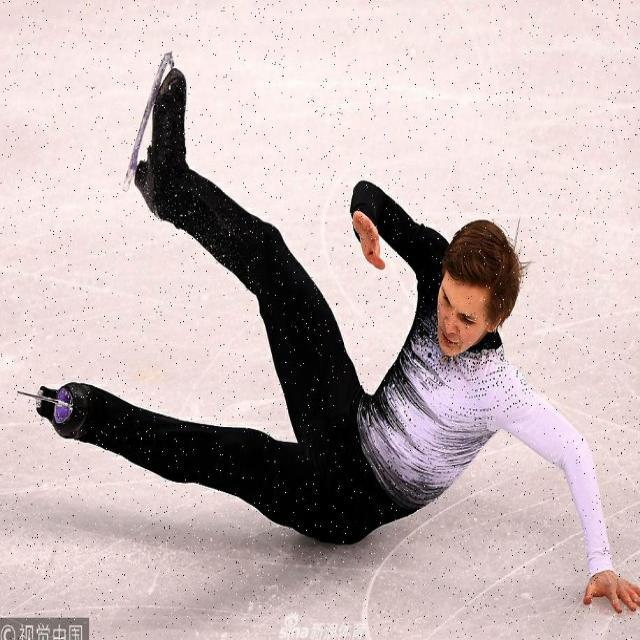fall: (71, 84, 634, 608)
